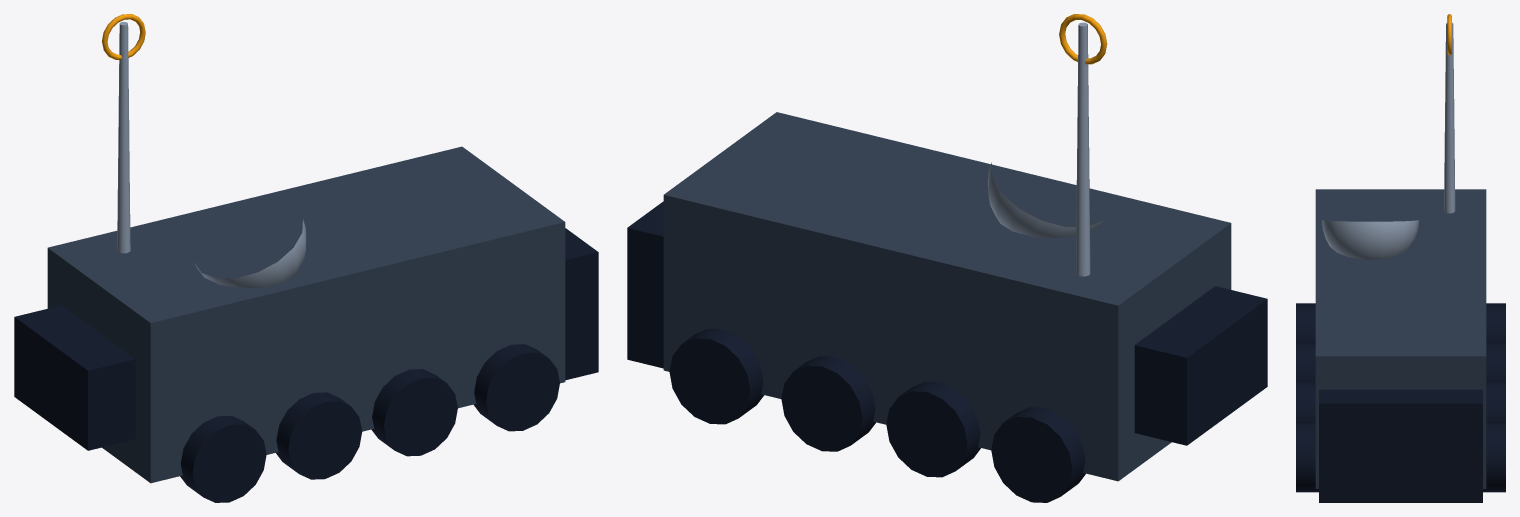
File: command_post.glb
The picture shows the model from 3 angles, left to right: view 1: azimuth 30°, elevation 25°; view 2: azimuth 150°, elevation 25°; view 3: azimuth 270°, elevation 25°; orthographic projection. The views are drawn at different scales.
Size of the model in its own units: 7.8 by 6.34 by 3.45.
